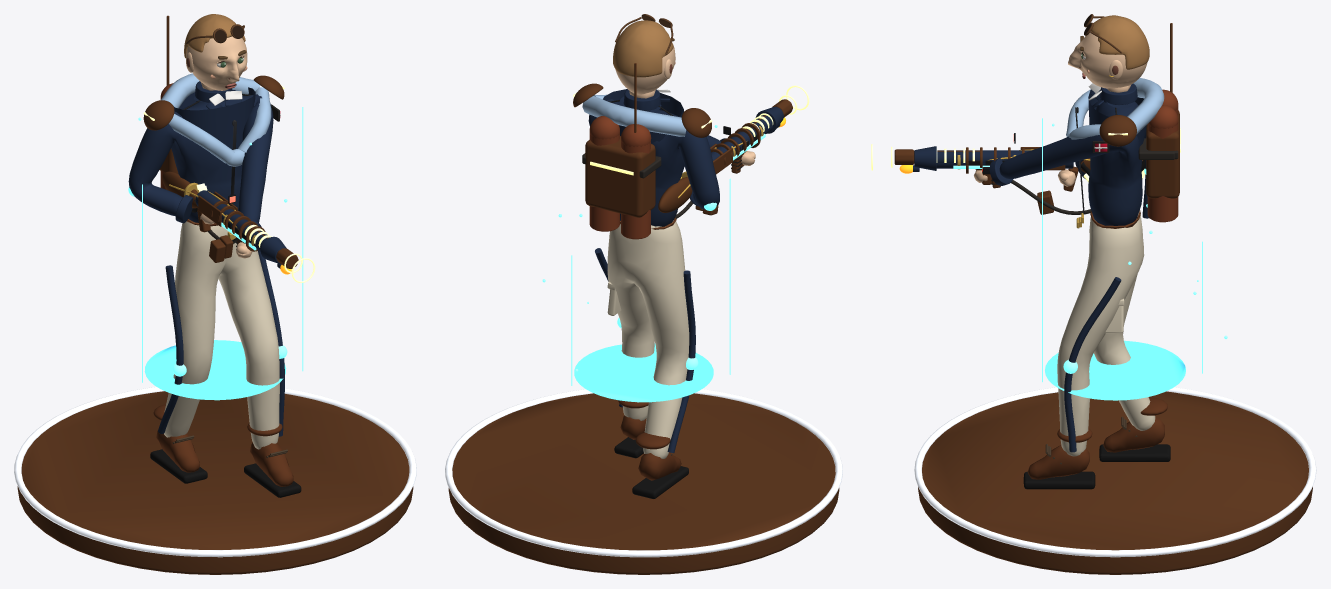
File: braender_hellerup.glb
The picture shows the model from 3 angles, left to right: view 1: azimuth 30°, elevation 25°; view 2: azimuth 150°, elevation 25°; view 3: azimuth 270°, elevation 25°; orthographic projection.
Parts seen in each view (by area): view 1: fod_net, menneske_net, op4.002_net, hoved_net, op4.001_net, vaaben_net, op3.001_net, op4_net, op1_net, op3_net; view 2: fod_net, menneske_net, op3.001_net, op4.002_net, hoved_net, op4.001_net, vaaben_net, op1_net, op4_net, op3_net; view 3: fod_net, menneske_net, op4.002_net, hoved_net, op3.001_net, op4.001_net, op1_net, vaaben_net.
Part boxes in pixels (<box>): fod_net: <box>14,387,416,574</box>; menneske_net: <box>128,73,301,497</box>; op4.002_net: <box>138,107,303,400</box>; hoved_net: <box>184,14,247,90</box>; op4.001_net: <box>128,101,287,436</box>; vaaben_net: <box>162,171,291,274</box>; op3.001_net: <box>143,15,284,173</box>; op4_net: <box>196,183,315,282</box>; op1_net: <box>195,190,269,247</box>; op3_net: <box>198,191,298,268</box>; fod_net: <box>445,389,842,574</box>; menneske_net: <box>582,89,755,498</box>; op3.001_net: <box>573,63,712,217</box>; op4.002_net: <box>542,125,730,402</box>; hoved_net: <box>613,14,675,94</box>; op4.001_net: <box>595,126,716,453</box>; vaaben_net: <box>658,107,785,212</box>; op1_net: <box>675,115,772,218</box>; op4_net: <box>705,85,809,215</box>; op3_net: <box>710,99,792,174</box>; fod_net: <box>914,387,1316,574</box>; menneske_net: <box>974,78,1178,489</box>; op4.002_net: <box>1042,118,1227,400</box>; hoved_net: <box>1068,14,1149,88</box>; op3.001_net: <box>1099,23,1180,198</box>; op4.001_net: <box>1063,125,1148,452</box>; op1_net: <box>937,147,1091,214</box>; vaaben_net: <box>899,146,1145,191</box>.
Bounding box in the file's own units: 1.94 × 2.52 × 2.14.
